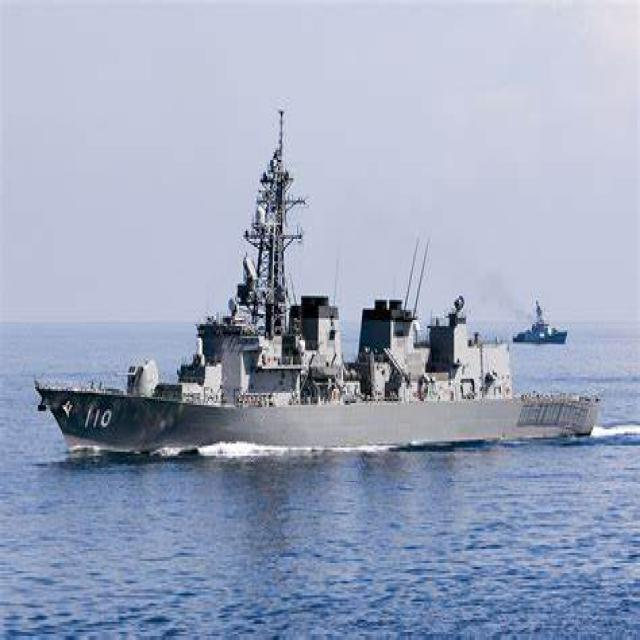navalvessels: (19, 146, 605, 486), (506, 276, 575, 352)
